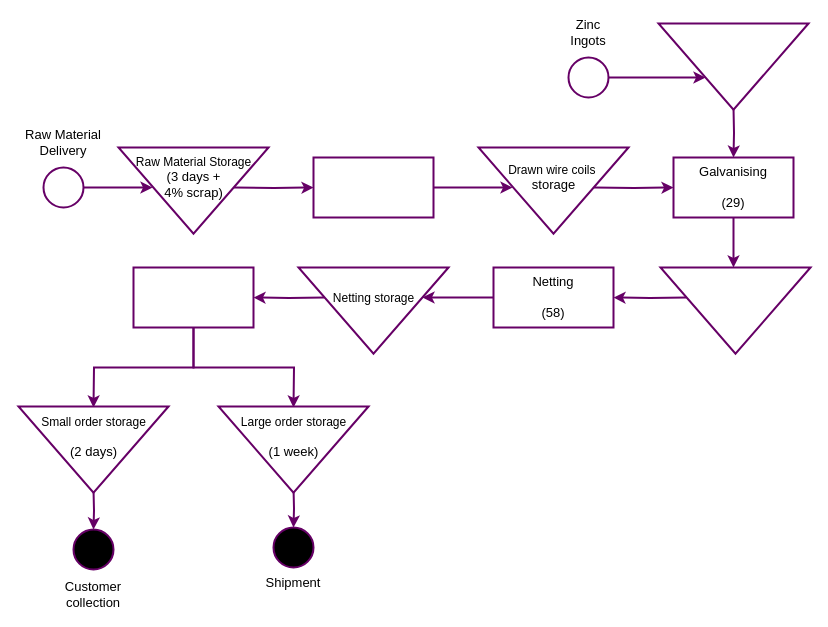
This 828x627 diagram has some shape labels left out. The centre of each missing label's shape, as x and y in pixels:
Galvanised wire storage: pixel 735 310
Packaging (97): pixel 193 297
Wire Drawing (36): pixel 373 187
Zinc Ingot Storage (5 days): pixel 733 66
